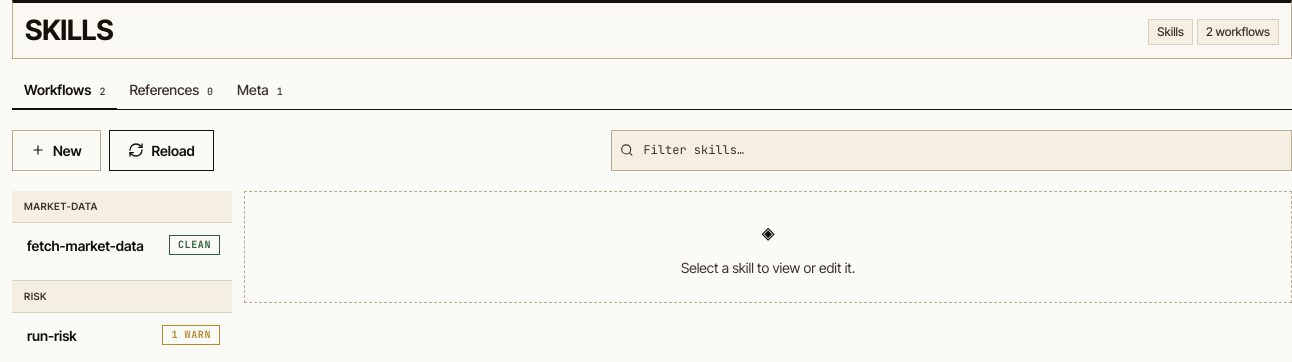
it: Skills › filters the tree
Type "fetch" into the search field with placeholder "Filter skills…" at [962, 150], box x1=641 y1=140 x2=1283 y2=160
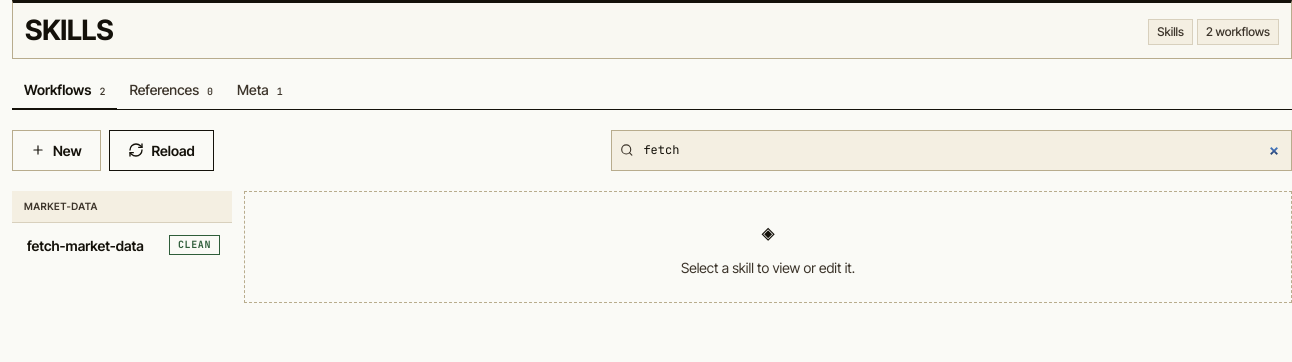
Expected: the text "fetch-market-data" is shown, x1=27 y1=235 x2=144 y2=256
Expected: the button "run-risk" is gone
